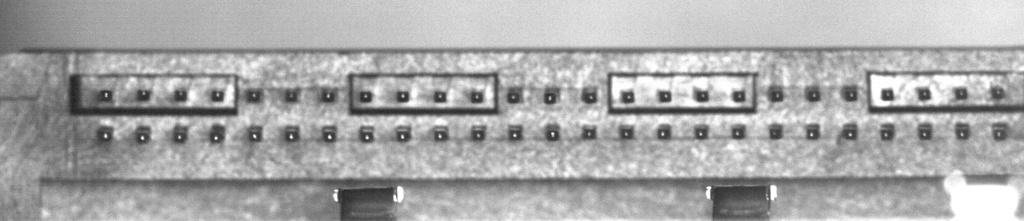pin_ok: (209, 125, 225, 143), (841, 85, 859, 101), (917, 123, 933, 140), (841, 124, 858, 140), (955, 123, 971, 140), (135, 126, 151, 143), (582, 86, 598, 103), (395, 126, 411, 142), (321, 125, 337, 141), (994, 124, 1010, 140), (768, 86, 784, 102), (506, 87, 522, 103), (97, 126, 113, 142), (880, 124, 895, 141), (805, 124, 820, 140), (471, 125, 486, 141), (619, 124, 635, 139), (359, 126, 374, 142), (284, 126, 299, 142), (172, 127, 188, 142), (544, 126, 560, 141), (284, 87, 300, 102), (543, 88, 558, 104), (805, 86, 821, 101), (245, 88, 262, 102), (508, 125, 523, 140), (247, 126, 262, 141), (581, 125, 597, 139), (321, 88, 337, 102), (991, 85, 1007, 99), (694, 125, 709, 139), (769, 124, 783, 139), (656, 125, 671, 139), (731, 125, 746, 139), (433, 127, 448, 141), (694, 88, 709, 102), (954, 86, 969, 100), (470, 89, 484, 103), (732, 89, 746, 103), (620, 89, 634, 103), (173, 88, 188, 101), (210, 89, 225, 102), (657, 89, 672, 102), (916, 87, 931, 100), (98, 89, 112, 102), (137, 88, 151, 101), (358, 90, 373, 102), (396, 89, 409, 102), (881, 88, 894, 101), (433, 90, 447, 102)
